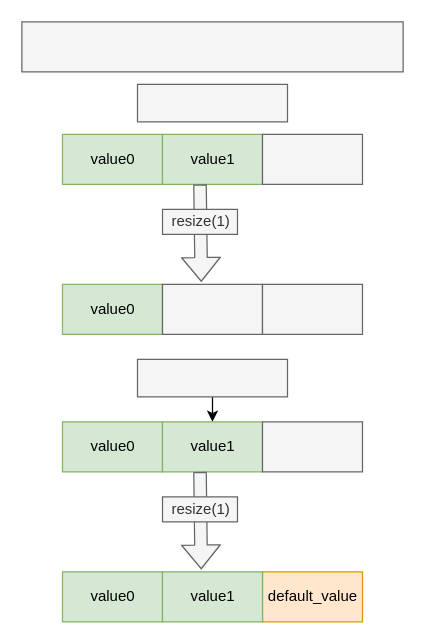
Some shapes in this 425 by 644 pixel diagram are drawn without their labels. Each missing label, with the box of its shape:
count < size(): (136, 83, 288, 122)
count > size(): (136, 358, 288, 397)
std::vector::resize(count): (21, 21, 403, 72)
